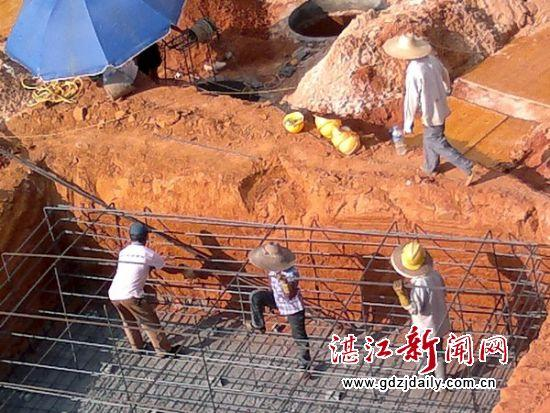helmet: (398, 244, 424, 274)
